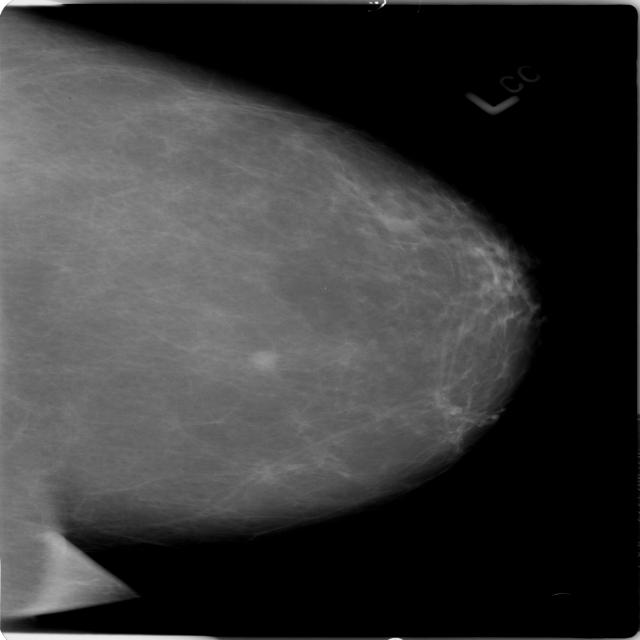cancer: (410, 228, 560, 369), (420, 406, 526, 455), (228, 342, 342, 382)
